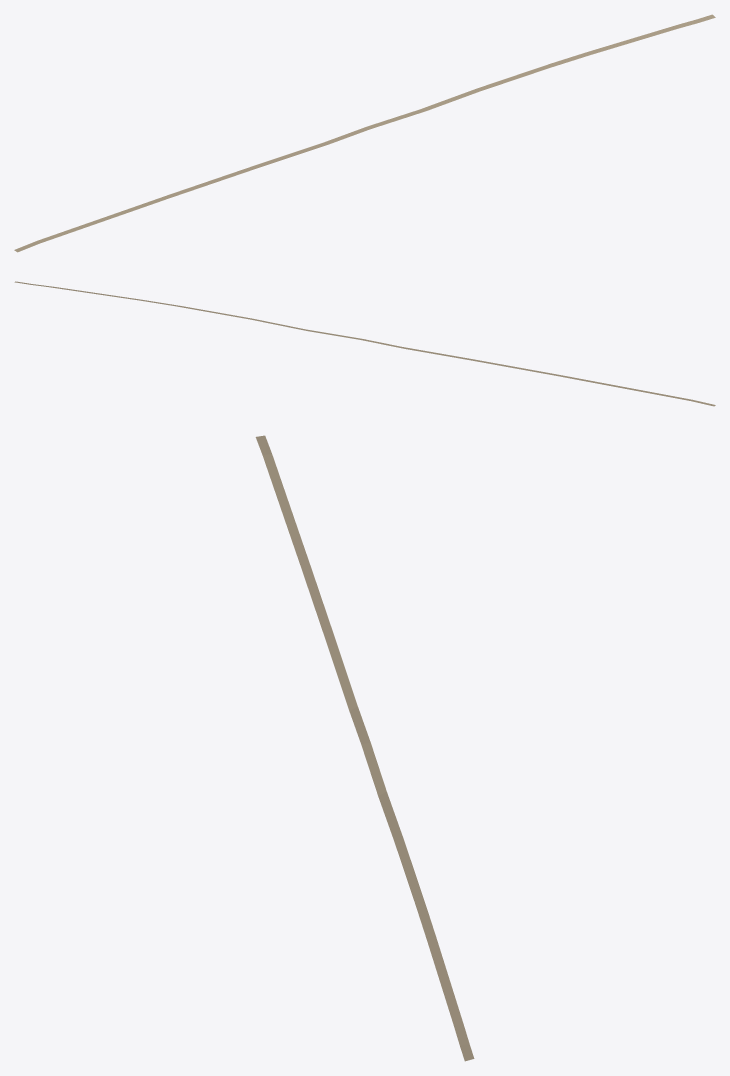
File: farm_-11_-18_track.glb
3 renders of one model, top to bottom at view 1: azimuth 30°, elevation 25°; view 2: azimuth 150°, elevation 25°; view 3: azimuth 270°, elevation 25°, orthographic. The views are drawn at different scales.
Visible parts, largest first — view 1: geometry_0; view 2: geometry_0; view 3: geometry_0.
Part boxes in pixels (<box>): geometry_0: <box>14,14,715,252</box>; geometry_0: <box>14,281,715,406</box>; geometry_0: <box>255,435,474,1061</box>.
Size of the model in its own units: 510 by 6.41 by 74.45.
